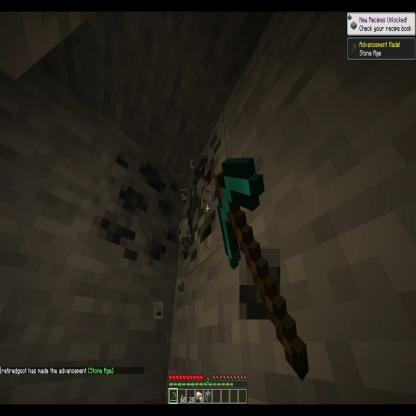coal ore: (85, 162, 181, 287)
